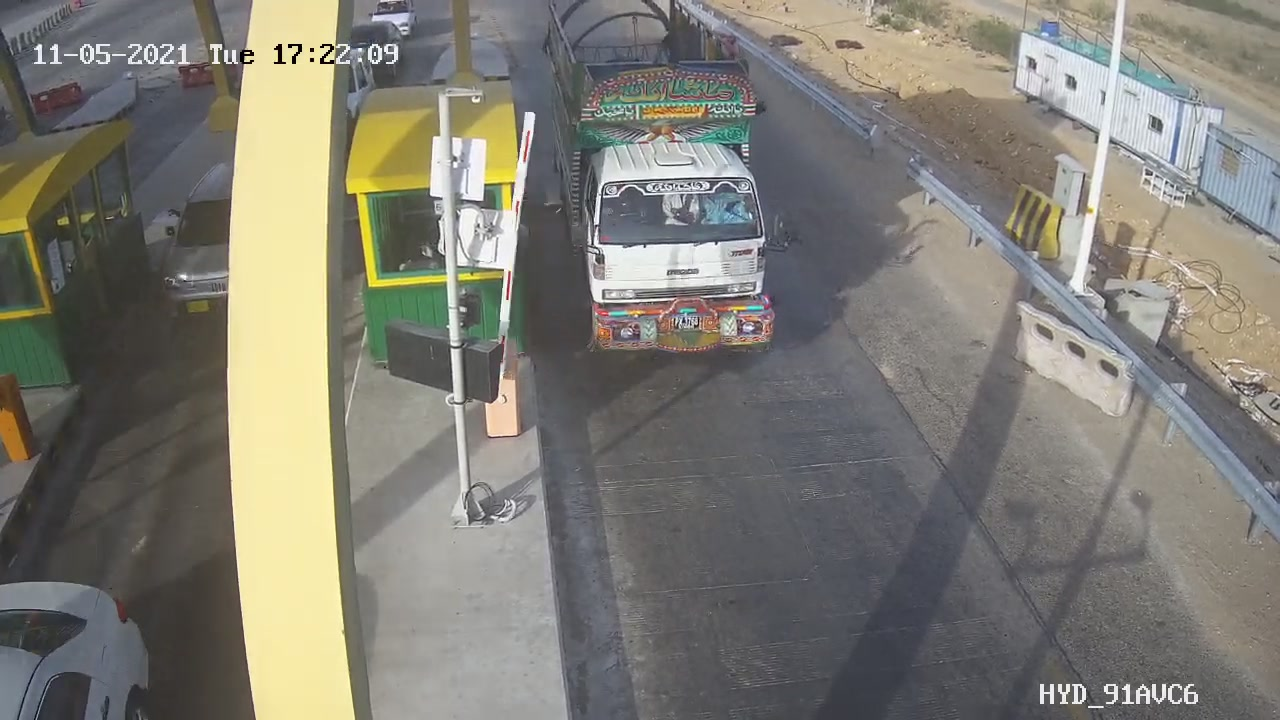F5: (529, 1, 817, 378)
